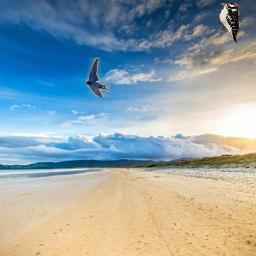Swallow: (86, 57, 110, 97)
Woodpecker: (218, 3, 240, 43)
